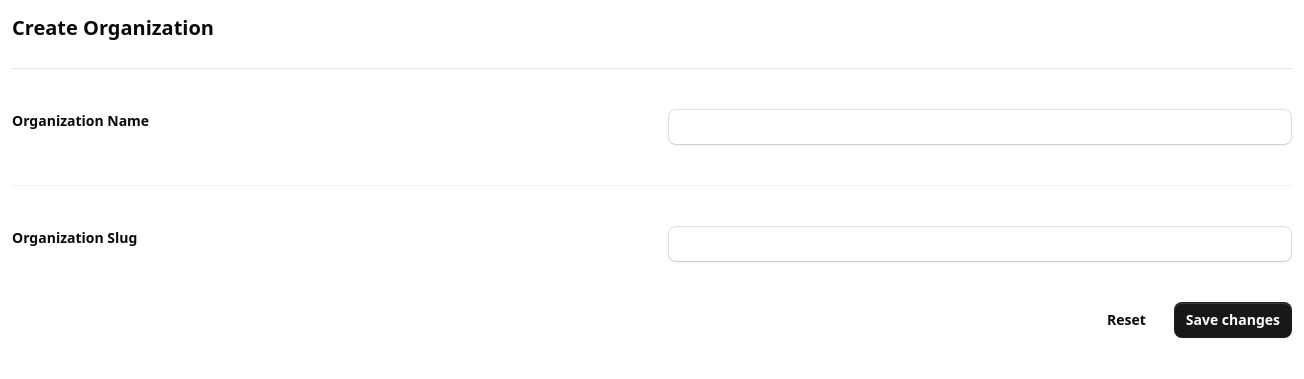
CreateOrg Component › displays generic error message for other failures
Type "Error Org" into the field named "organization name".
click(980, 127); type("Error Org")  # box [668, 109, 1292, 145]
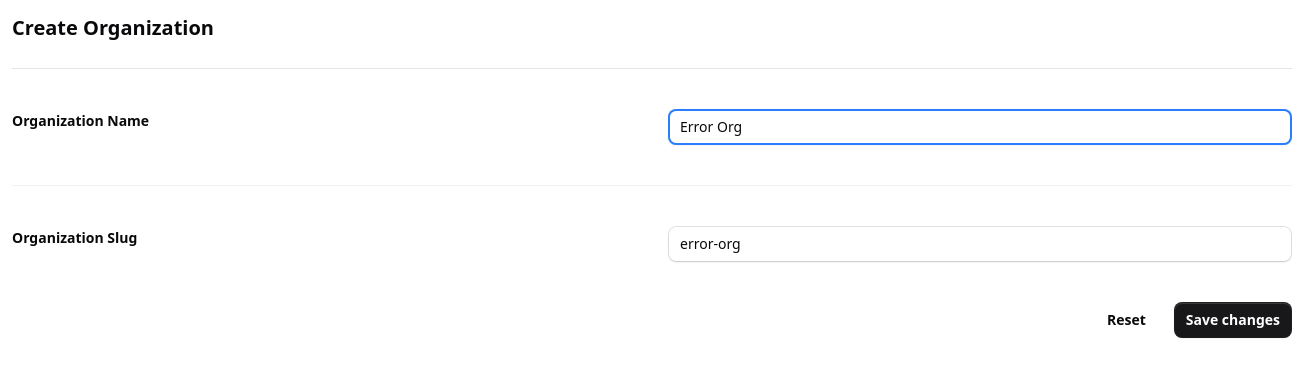
Click the button "Save changes".
click(1233, 320)  # box [1174, 302, 1292, 338]
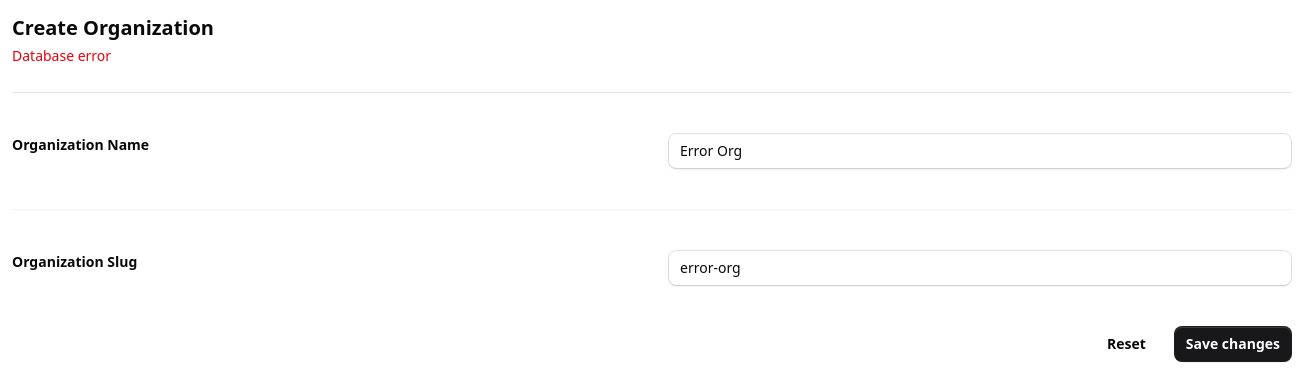
Check: the text "Database error" is shown, box [12, 46, 111, 65]
